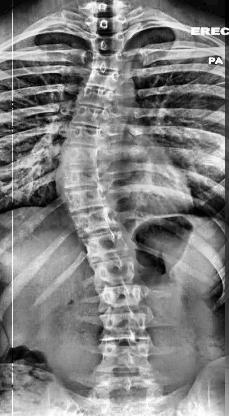Vertebrae: (100, 342, 156, 376), (100, 311, 154, 339), (68, 210, 124, 235), (93, 258, 138, 286), (82, 234, 134, 258), (98, 282, 150, 306), (62, 186, 110, 208), (60, 148, 104, 170), (60, 126, 108, 146), (57, 171, 107, 190), (80, 86, 116, 110), (72, 106, 109, 128), (92, 52, 126, 74), (88, 70, 124, 90), (90, 34, 126, 52)
